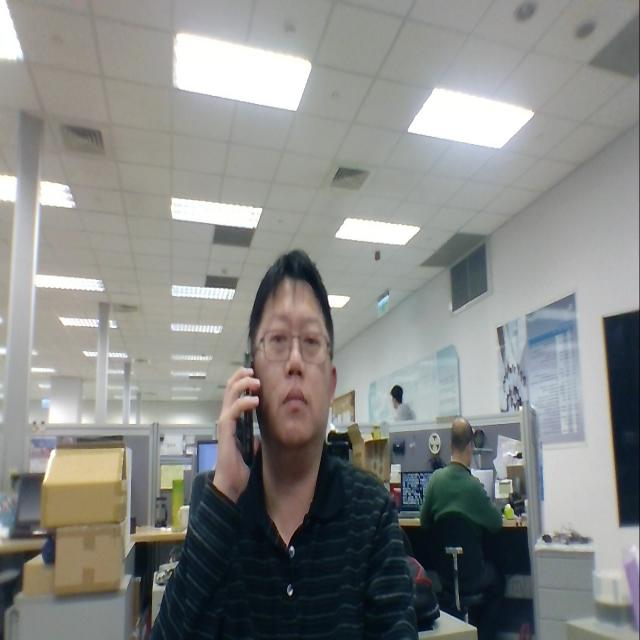phone: (212, 318, 274, 496)
